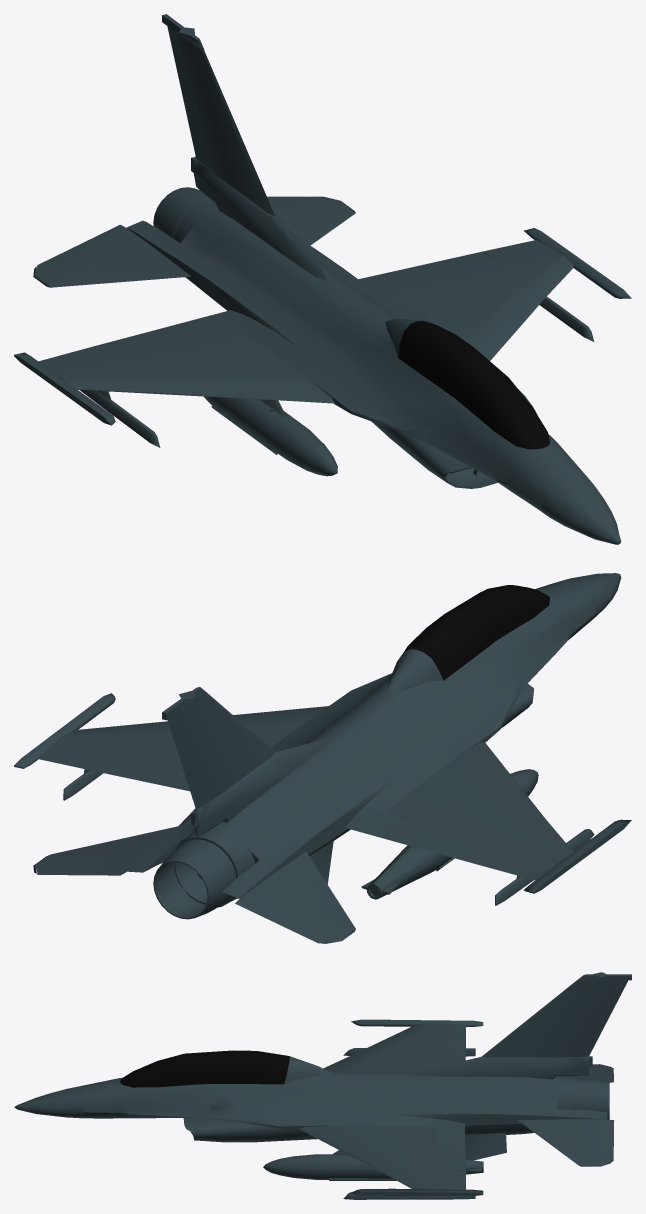
File: Aircraft.FBX
3 renders of one model, top to bottom at view 1: azimuth 30°, elevation 25°; view 2: azimuth 150°, elevation 25°; view 3: azimuth 270°, elevation 25°, orthographic. The views are drawn at different scales.
Visible parts, largest first — view 1: aircraft; view 2: aircraft; view 3: aircraft.
Boxes of the visible parts, left/top/right/bottom form: aircraft: left=14, top=14, right=631, bottom=544; aircraft: left=14, top=573, right=631, bottom=943; aircraft: left=14, top=972, right=631, bottom=1199.
Size of the model in its own units: 19.73 by 9.32 by 29.94.
Materials: 1 (1 with a texture image).
